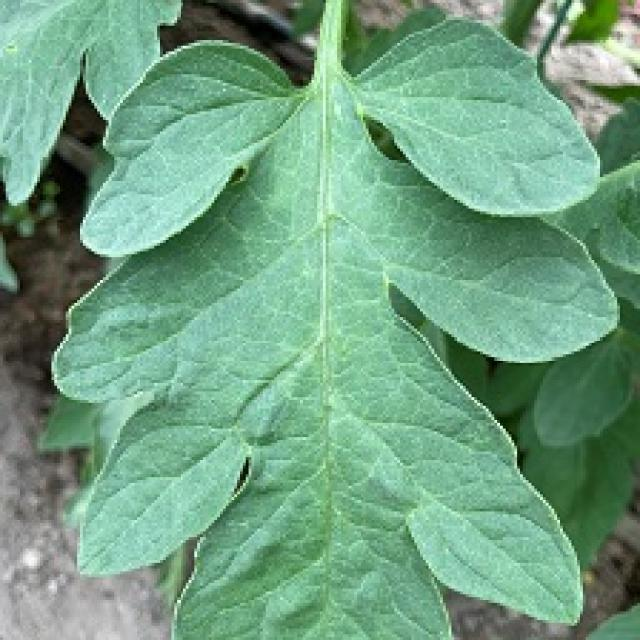Healthy: (51, 0, 617, 637)
